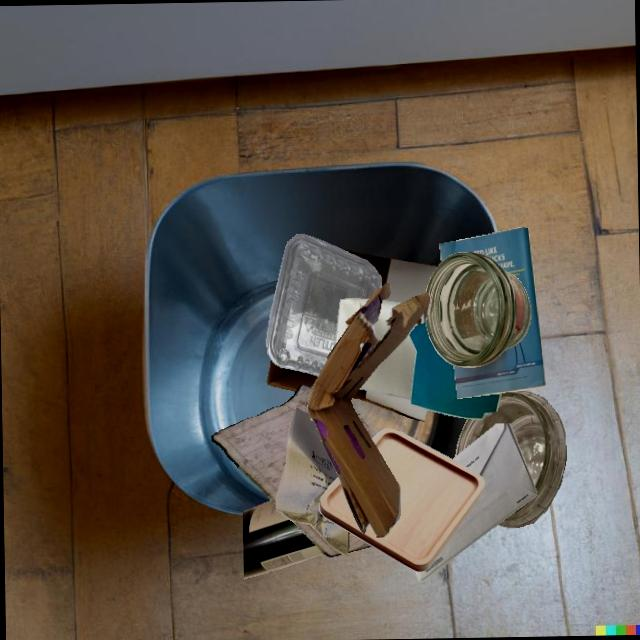cardboard: (307, 283, 430, 537), (306, 283, 381, 395), (340, 248, 437, 302), (360, 389, 427, 421), (266, 359, 317, 391)
combustible waste: (319, 428, 484, 571)
glass: (455, 390, 566, 527), (425, 251, 531, 367), (242, 500, 324, 578)
paper: (413, 423, 537, 582), (439, 227, 545, 398), (285, 421, 377, 554), (275, 407, 349, 555), (408, 321, 501, 419), (211, 416, 285, 505), (358, 299, 401, 357), (255, 384, 314, 421)
plastic: (266, 234, 381, 376)
